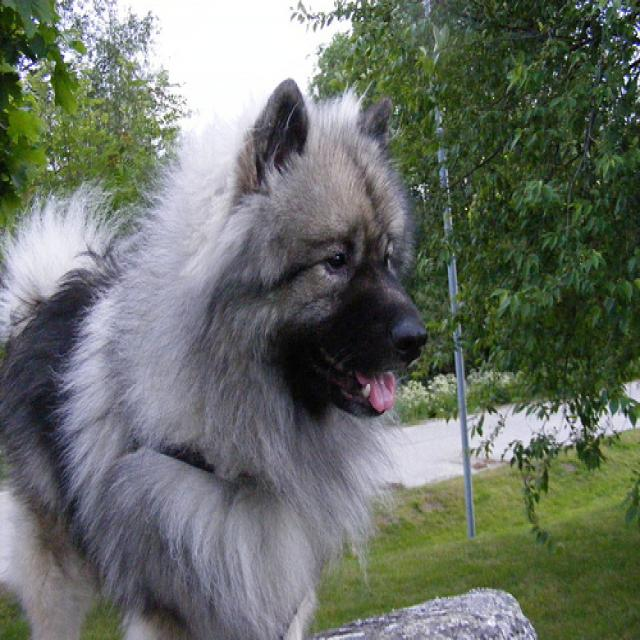dog-keeshond: (1, 65, 435, 637)
